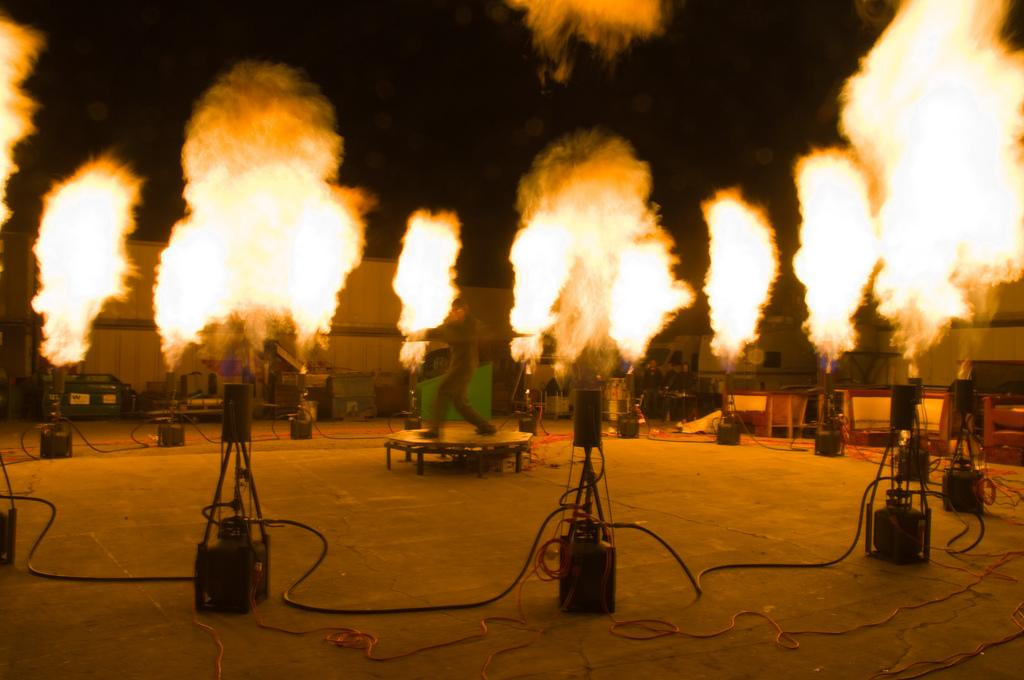fire: (875, 68, 1020, 310), (185, 172, 323, 315), (527, 205, 650, 357), (797, 173, 867, 343), (38, 195, 100, 335), (715, 218, 762, 347), (400, 222, 445, 327)
